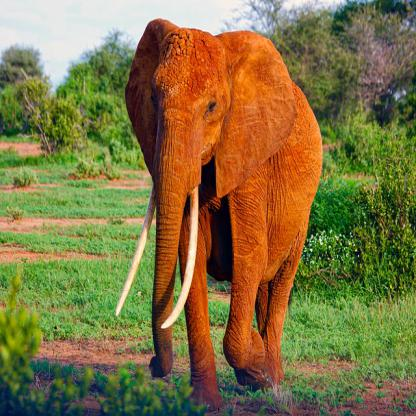elephant: (125, 22, 316, 410)
